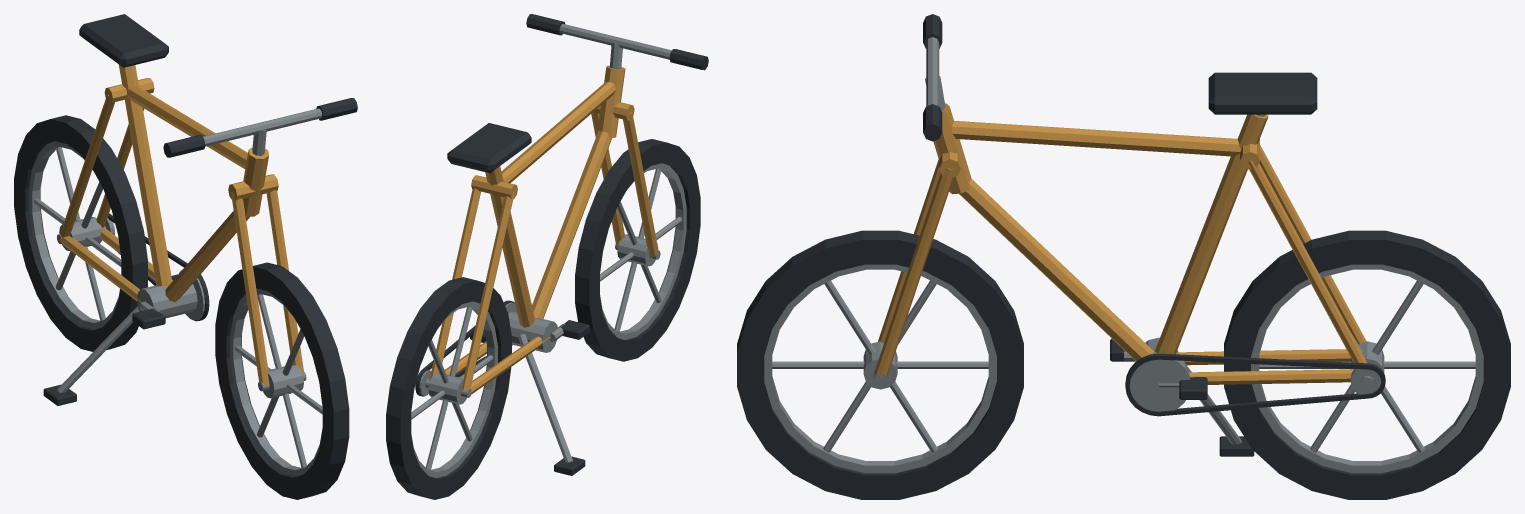
The picture shows the model from 3 angles, left to right: view 1: azimuth 30°, elevation 25°; view 2: azimuth 150°, elevation 25°; view 3: azimuth 270°, elevation 25°; orthographic projection. The views are drawn at different scales.
Visible parts, largest first — view 1: Front flat tread tire, Rear flat tread tire, Seat tube, Saddle, Rear restrained rim, Front restrained rim, Fork leg, Top frame tube, Main down tube, Rear seat stay, Fork leg.001, Handlebar transverse (+20 smaller); view 2: Rear flat tread tire, Front flat tread tire, Main down tube, Saddle, Front restrained rim, Top frame tube, Seat tube, Rear restrained rim, Rear seat stay, Fork leg, Rear seat stay.001, Handlebar transverse (+16 smaller); view 3: Front flat tread tire, Rear flat tread tire, Front restrained rim, Rear restrained rim, Top frame tube, Seat tube, Main down tube, Saddle, Static closed chain outline, Fork leg.001, Rear seat stay.001, Static front chainring (+7 smaller).
Part boxes in pixels (left/top/right/bottom): Front flat tread tire: left=215, top=262, right=349, bottom=499; Rear flat tread tire: left=14, top=115, right=147, bottom=351; Seat tube: left=118, top=64, right=172, bottom=286; Saddle: left=79, top=14, right=168, bottom=67; Rear restrained rim: left=29, top=141, right=120, bottom=329; Front restrained rim: left=230, top=288, right=322, bottom=476; Fork leg: left=231, top=192, right=269, bottom=386; Top frame tube: left=126, top=86, right=247, bottom=168; Main down tube: left=165, top=211, right=249, bottom=302; Rear seat stay: left=60, top=95, right=114, bottom=237; Fork leg.001: left=266, top=190, right=304, bottom=375; Handlebar transverse: left=203, top=108, right=322, bottom=146; Rear flat tread tire: left=386, top=277, right=511, bottom=499; Front flat tread tire: left=575, top=139, right=700, bottom=361; Main down tube: left=532, top=130, right=611, bottom=318; Saddle: left=447, top=123, right=531, bottom=173; Front restrained rim: left=600, top=163, right=686, bottom=339; Top frame tube: left=501, top=81, right=616, bottom=183; Seat tube: left=485, top=166, right=534, bottom=327; Rear restrained rim: left=411, top=301, right=497, bottom=478; Rear seat stay: left=462, top=192, right=514, bottom=391; Fork leg: left=623, top=111, right=658, bottom=257; Rear seat stay.001: left=429, top=188, right=480, bottom=380; Handlebar transverse: left=559, top=24, right=671, bottom=59; Front flat tread tire: left=737, top=230, right=1023, bottom=499; Rear flat tread tire: left=1224, top=230, right=1510, bottom=499; Front restrained rim: left=764, top=264, right=996, bottom=473; Rear restrained rim: left=1251, top=264, right=1483, bottom=473; Top frame tube: left=952, top=121, right=1241, bottom=156; Seat tube: left=1155, top=114, right=1268, bottom=354; Main down tube: left=959, top=179, right=1153, bottom=361; Saddle: left=1208, top=72, right=1317, bottom=114; Static closed chain outline: left=1125, top=353, right=1385, bottom=416; Fork leg.001: left=874, top=168, right=953, bottom=378; Rear seat stay.001: left=1248, top=160, right=1367, bottom=363; Static front chainring: left=1129, top=359, right=1189, bottom=411.
Bounding box in the file's own units: 0.6 × 1.08 × 1.78.
